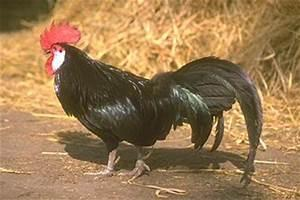hen: (38, 17, 266, 186)
